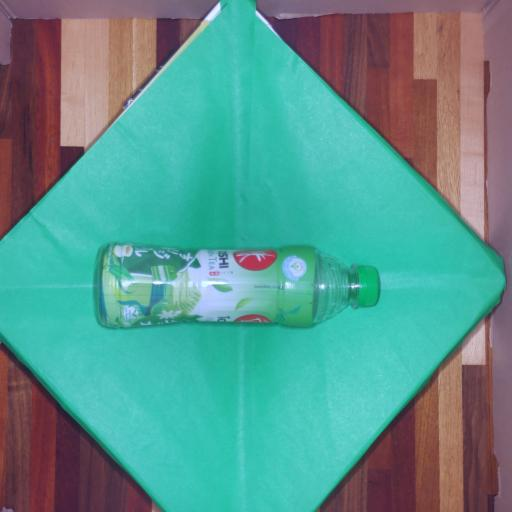bottle: (99, 244, 379, 327)
